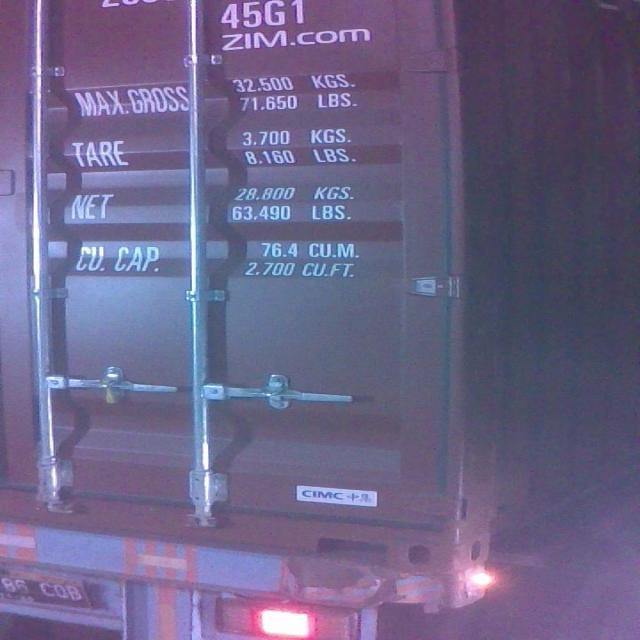seal: (98, 376, 119, 407)
